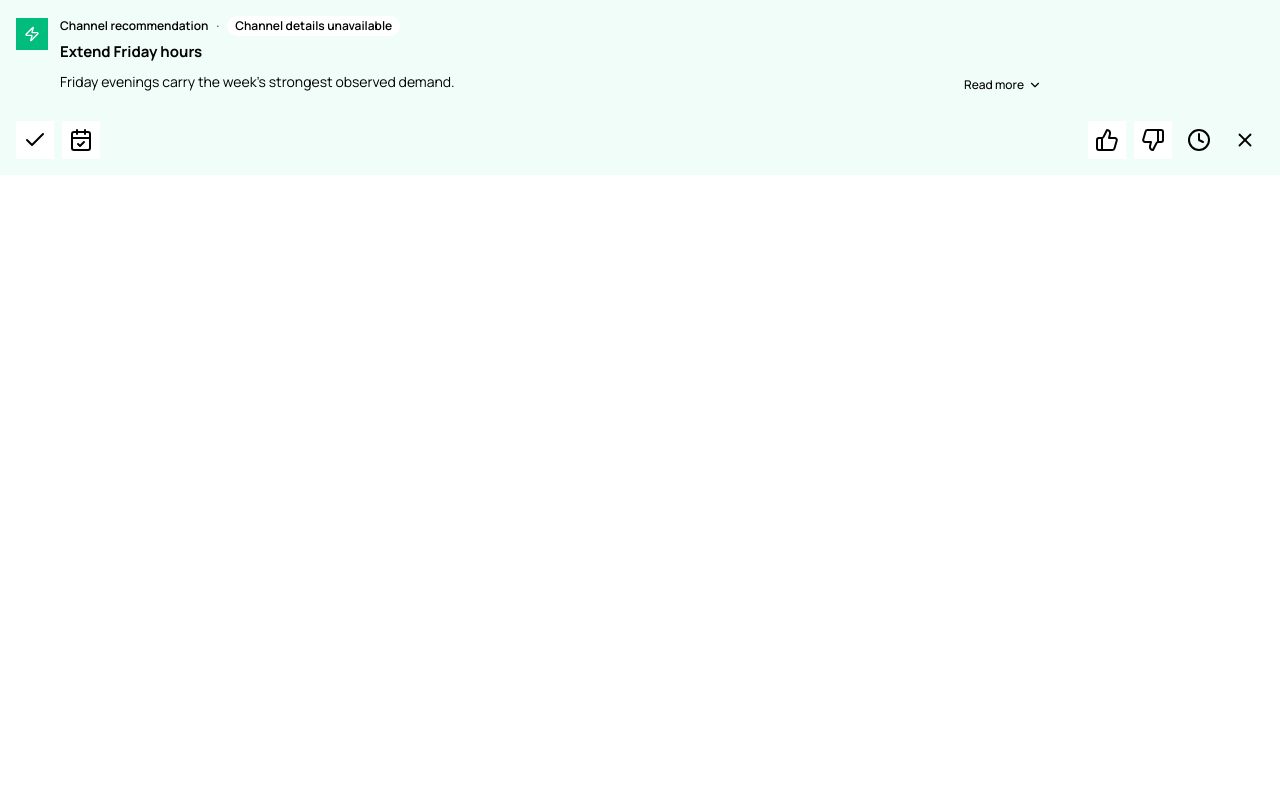
Test: IntelligenceCard › states honest fallbacks for missing window and missing caveats
Step 1. Click the button "Read more" → {"x": 1003, "y": 85}, box [964,77,1042,93]
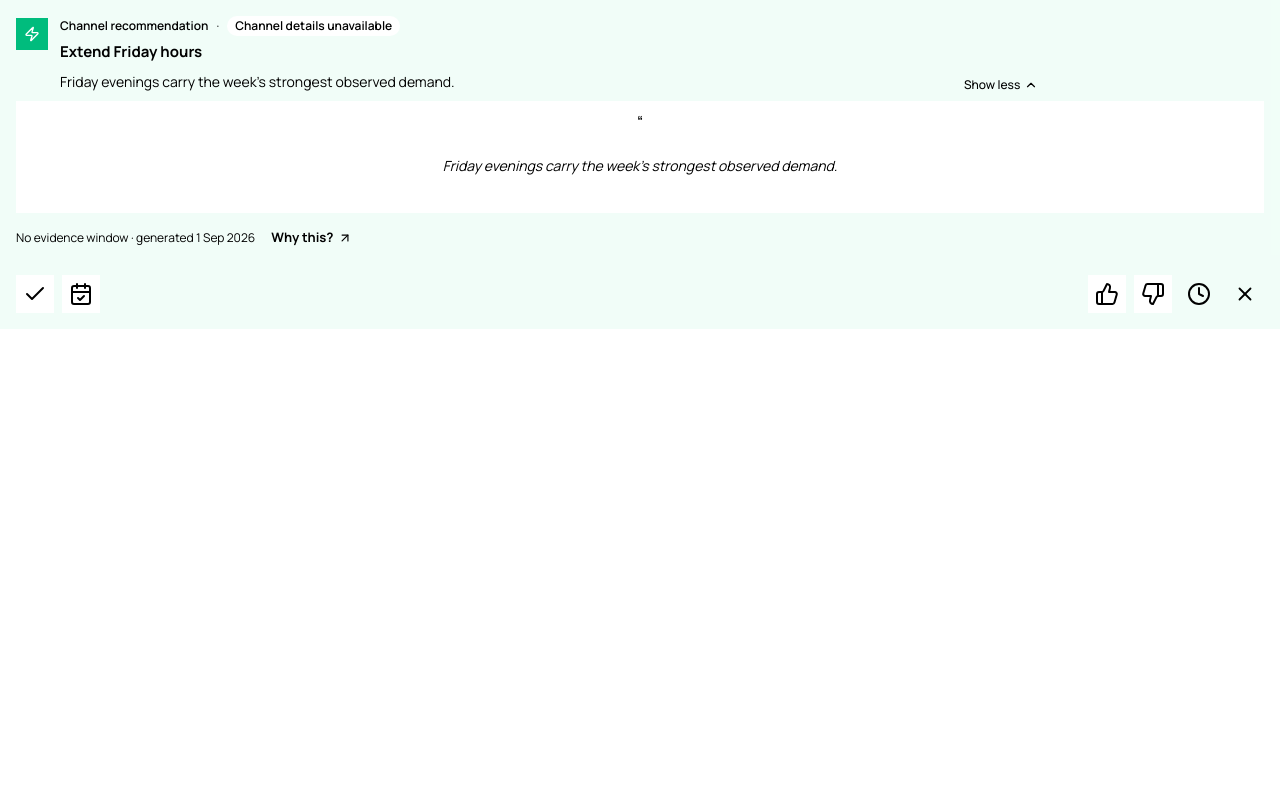
expect the text "No evidence window · generated 1 Sep 2026" is shown: met, box [16,230,255,246]
Step 2. Click the button "Why this?" → {"x": 311, "y": 238}, box [271,229,352,247]
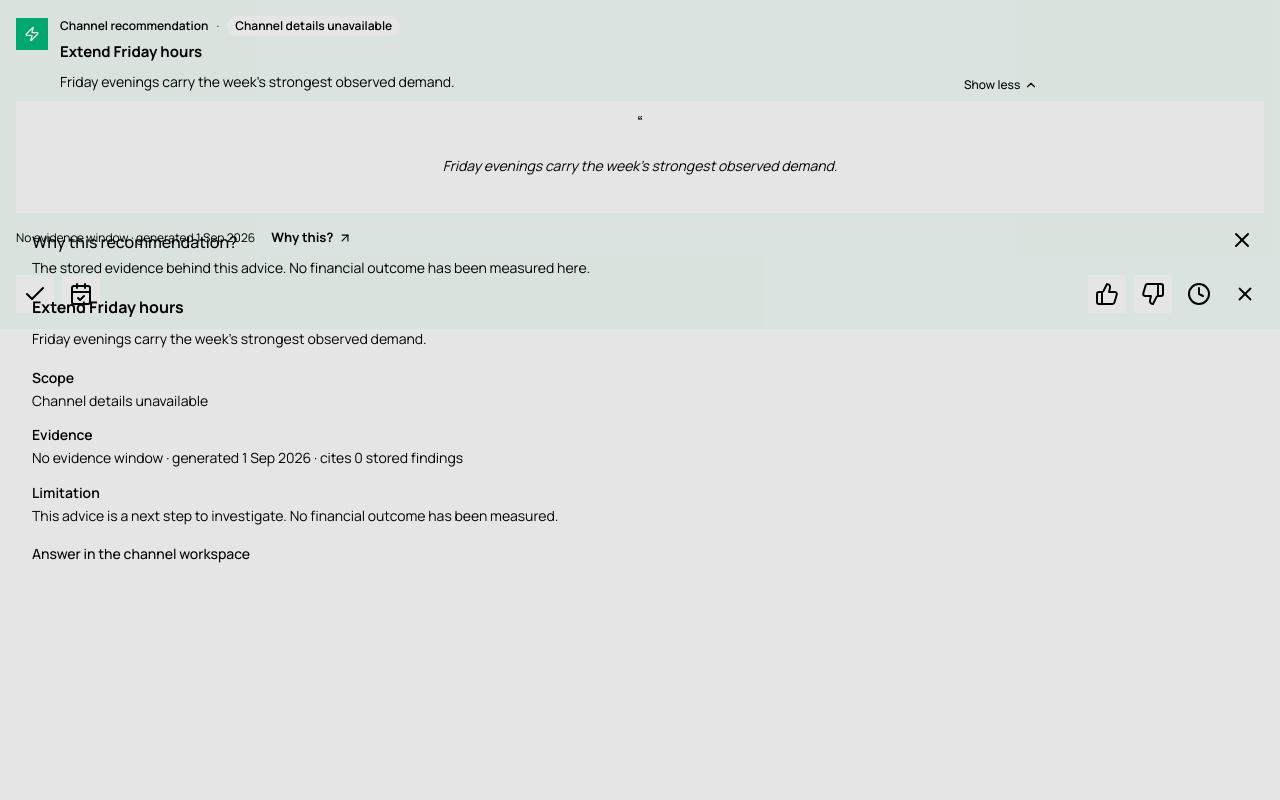
expect the text "next step to investigate" is shown: met, box [32,506,558,524]
